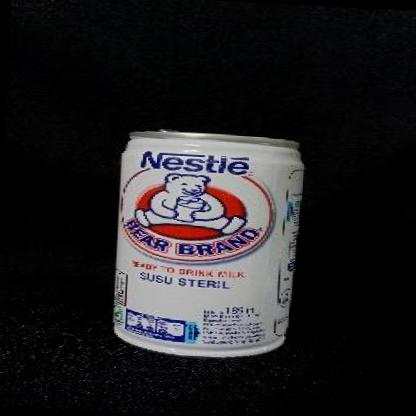alumunium_can: (109, 126, 307, 362)
